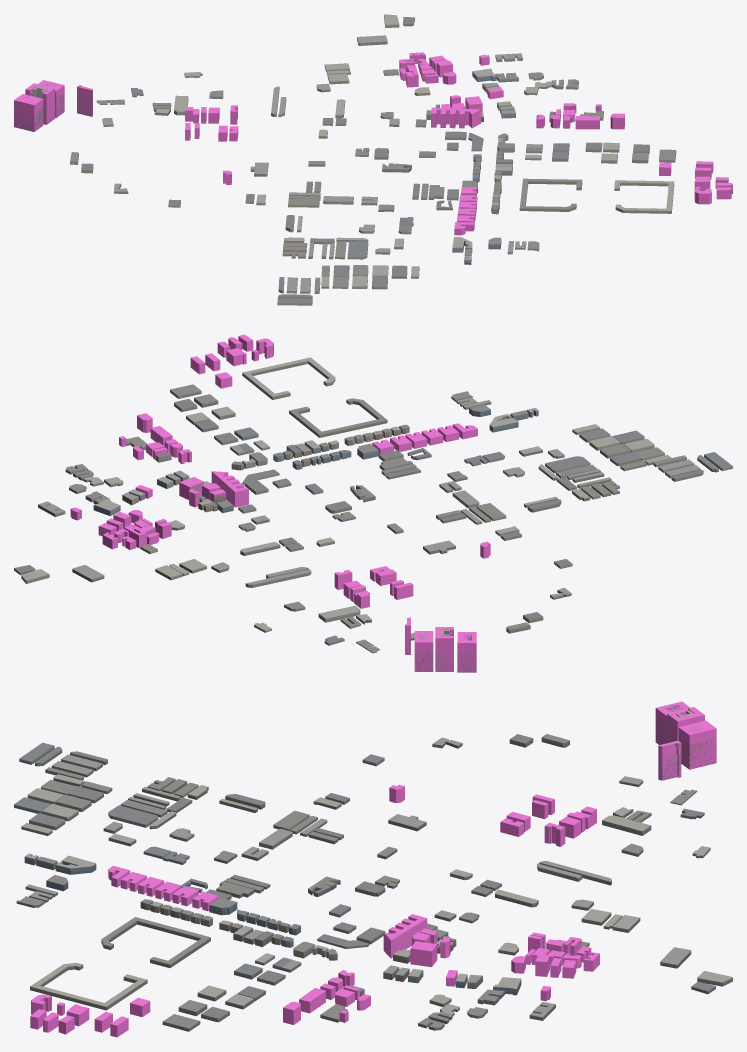
File: bld_18_14.fbx
3 renders of one model, top to bottom at view 1: azimuth 30°, elevation 25°; view 2: azimuth 150°, elevation 25°; view 3: azimuth 270°, elevation 25°, orthographic. The views are drawn at different scales.
Parts seen in each view (by area): view 1: bld_18_14_LOD0, bld_18_14_COL; view 2: bld_18_14_LOD0, bld_18_14_COL; view 3: bld_18_14_LOD0, bld_18_14_COL.
Boxes of the visible parts, x1,y1,x2,y2 form: bld_18_14_LOD0: (14,14,732,305); bld_18_14_COL: (14,52,732,235); bld_18_14_LOD0: (14,357,732,672); bld_18_14_COL: (70,334,490,672); bld_18_14_LOD0: (14,705,732,1031); bld_18_14_COL: (30,701,716,1037).
Size of what is drawn, in the model's own units: 2057 by 125 by 2074.
